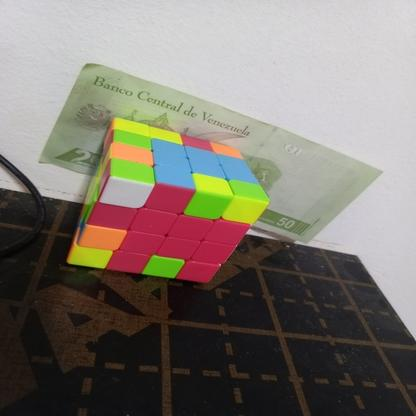fifty-back-vef: (37, 61, 384, 244)
